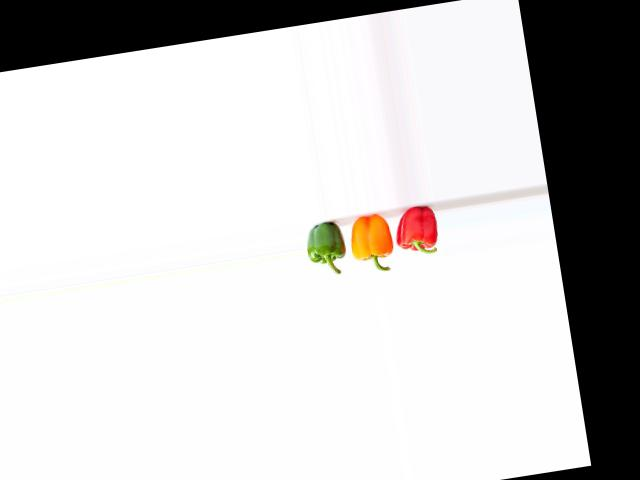bell_pepper: (391, 204, 445, 268)
